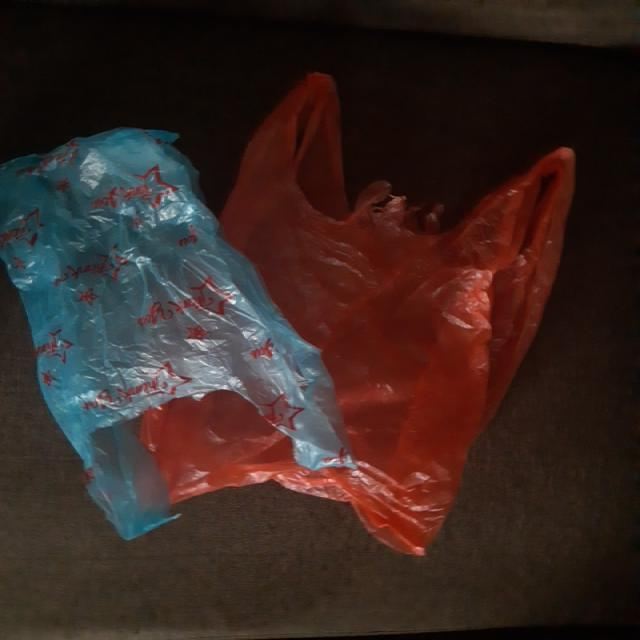Single-layer Plastic: (140, 74, 574, 554), (0, 129, 352, 539)
